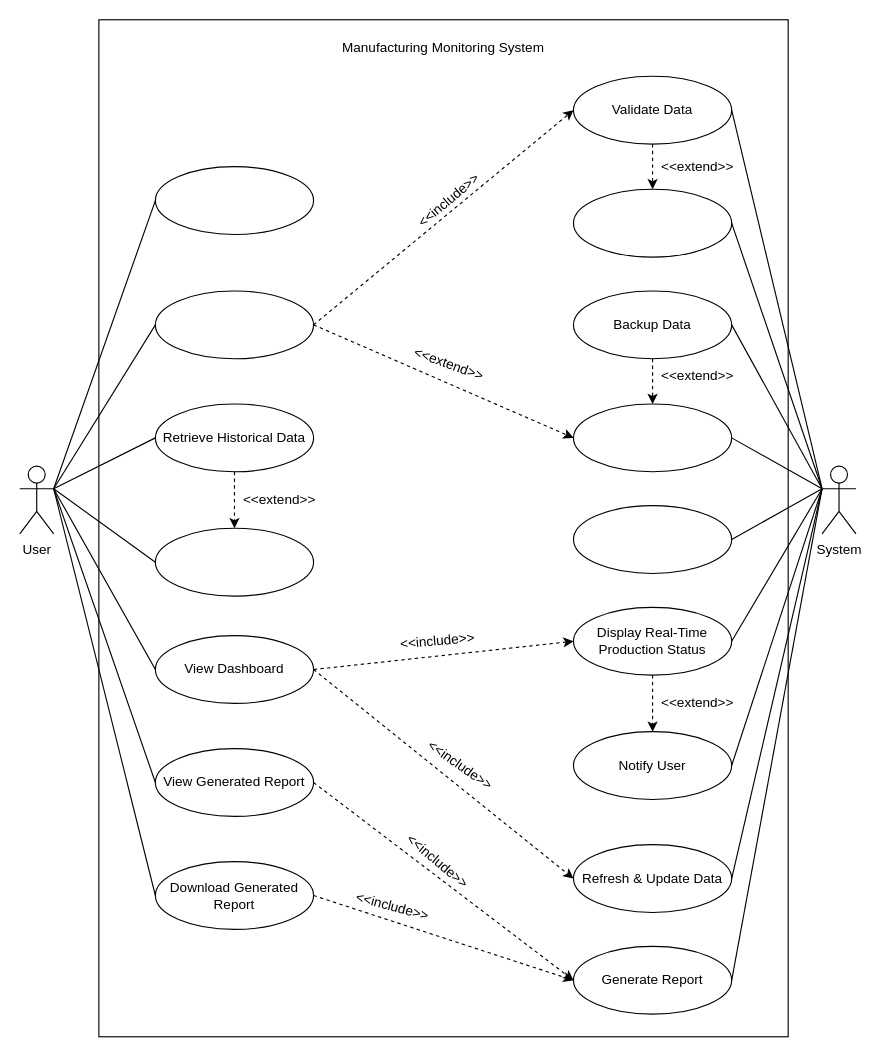
Some shapes in this 881 by 1057 pixel diagram are drawn without their labels. Here are the shapes that lost their labels. From the top down, the box of each, then its label:
(154, 166, 314, 234): Login Account
(572, 188, 732, 257): Store Data
(154, 290, 314, 359): Enter Data
(572, 403, 732, 472): Recover Data
(572, 505, 732, 573): Log User Activities
(154, 527, 314, 596): Search & Filter Data
